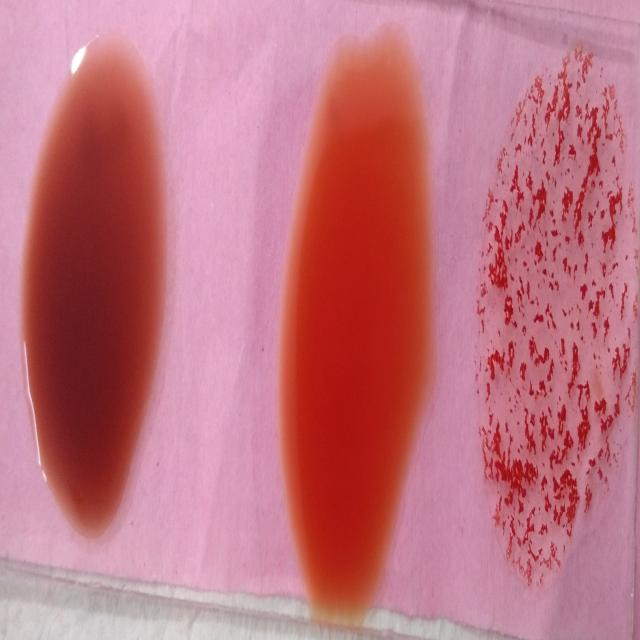D: (474, 54, 638, 589)
